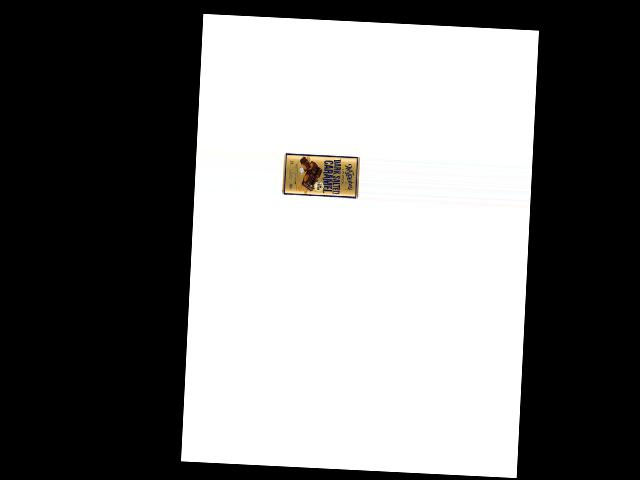chocolate: (280, 151, 359, 201)
